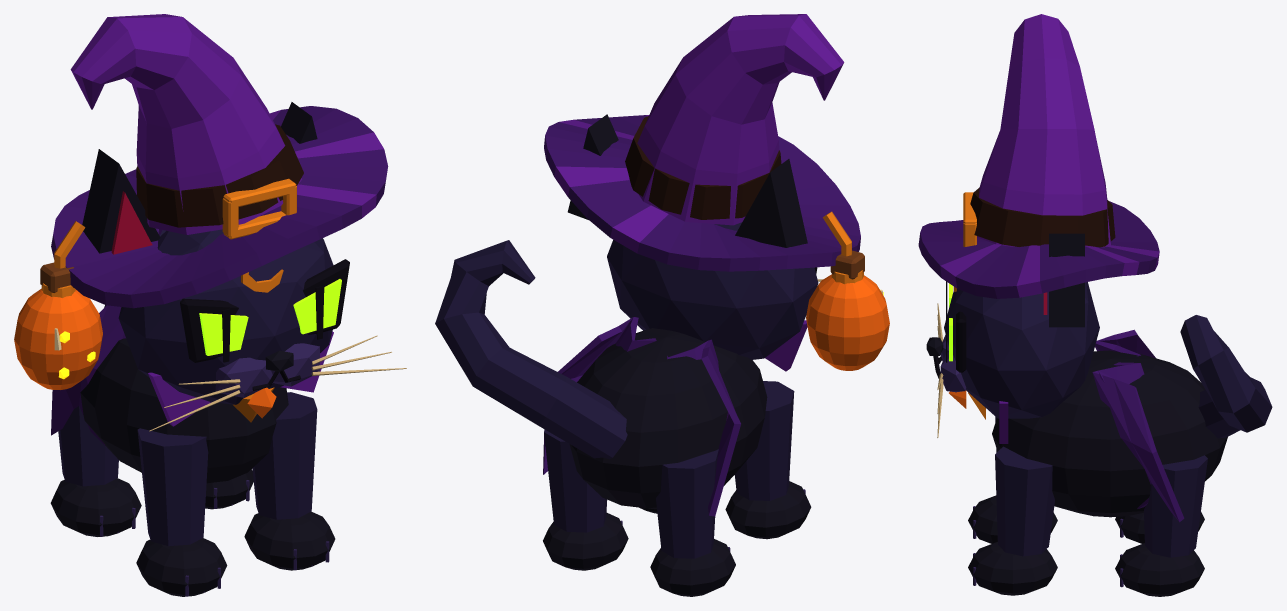
File: HexCat.fbx
3 renders of one model, left to right at view 1: azimuth 30°, elevation 25°; view 2: azimuth 150°, elevation 25°; view 3: azimuth 270°, elevation 25°, orthographic. The views are drawn at different scales.
Parts seen in each view (by area): view 1: Bent witch hat cone, Wide crooked hat brim, Witch cat head, Cat torso, Fore leg-1, Orange potion flask, Fore leg1, Leather hat band, Cat paw1False, Cat paw-1False, Cat paw-1True, Cat pointed ear-1 (+18 smaller); view 2: Bent witch hat cone, Cat torso, Wide crooked hat brim, Cat curled tail, Witch cat head, Orange potion flask, Hind leg-1.001, Leather hat band, Witch shoulder mantle, Fore leg-1, Hind leg1.001, Cat pointed ear-1 (+6 smaller); view 3: Cat torso, Bent witch hat cone, Witch cat head, Wide crooked hat brim, Cat curled tail, Fore leg1, Witch shoulder mantle, Leather hat band, Hind leg1.001, Cat paw1False, Cat paw1True, Cat pointed ear1 (+4 smaller).
Boxes of the visible parts, <box> form: Bent witch hat cone: <box>70,14,301,234</box>; Wide crooked hat brim: <box>51,106,388,308</box>; Witch cat head: <box>118,229,333,404</box>; Cat torso: <box>80,338,288,483</box>; Fore leg-1: <box>137,428,208,546</box>; Orange potion flask: <box>14,289,102,389</box>; Fore leg1: <box>252,392,317,519</box>; Leather hat band: <box>136,124,303,227</box>; Cat paw1False: <box>244,511,335,570</box>; Cat paw-1False: <box>136,538,227,596</box>; Cat paw-1True: <box>50,478,141,536</box>; Cat pointed ear-1: <box>82,149,160,253</box>; Bent witch hat cone: <box>637,14,844,225</box>; Cat torso: <box>569,328,767,509</box>; Wide crooked hat brim: <box>544,115,860,271</box>; Cat curled tail: <box>435,240,627,459</box>; Witch cat head: <box>607,222,818,359</box>; Orange potion flask: <box>806,274,889,370</box>; Hind leg-1.001: <box>656,449,718,558</box>; Leather hat band: <box>625,116,781,219</box>; Witch shoulder mantle: <box>543,317,740,516</box>; Fore leg-1: <box>734,381,794,500</box>; Hind leg1.001: <box>544,429,607,532</box>; Cat pointed ear-1: <box>735,159,807,247</box>; Cat torso: <box>992,350,1227,517</box>; Bent witch hat cone: <box>977,14,1110,247</box>; Witch cat head: <box>944,282,1099,418</box>; Wide crooked hat brim: <box>918,201,1159,298</box>; Cat curled tail: <box>1180,315,1272,438</box>; Fore leg1: <box>995,446,1054,556</box>; Witch shoulder mantle: <box>1092,329,1184,522</box>; Leather hat band: <box>970,187,1115,247</box>; Hind leg1.001: <box>1144,455,1207,557</box>; Cat paw1False: <box>968,541,1057,595</box>; Cat paw1True: <box>1115,543,1204,596</box>; Cat pointed ear1: <box>1049,233,1084,327</box>.
Size of the model in its own units: 251 by 374 by 236.
